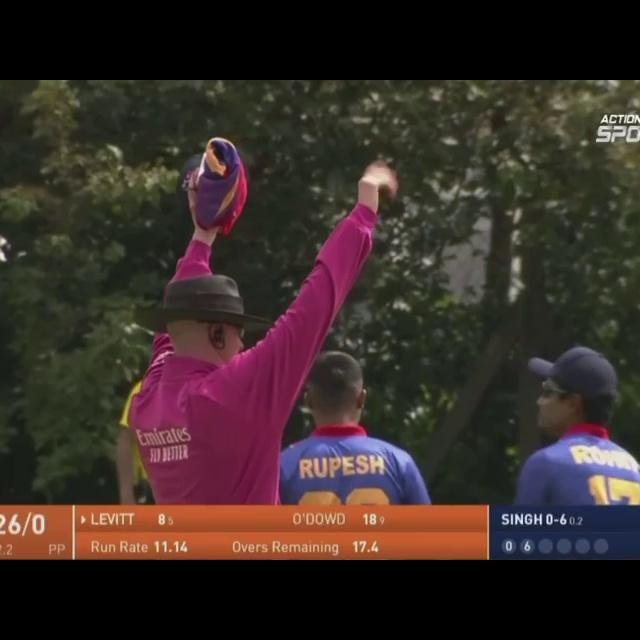umpire: (78, 95, 481, 414)
